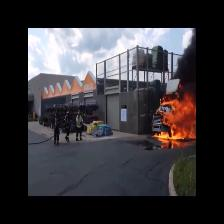fire: (167, 101, 195, 142)
smoke: (184, 40, 195, 97)
